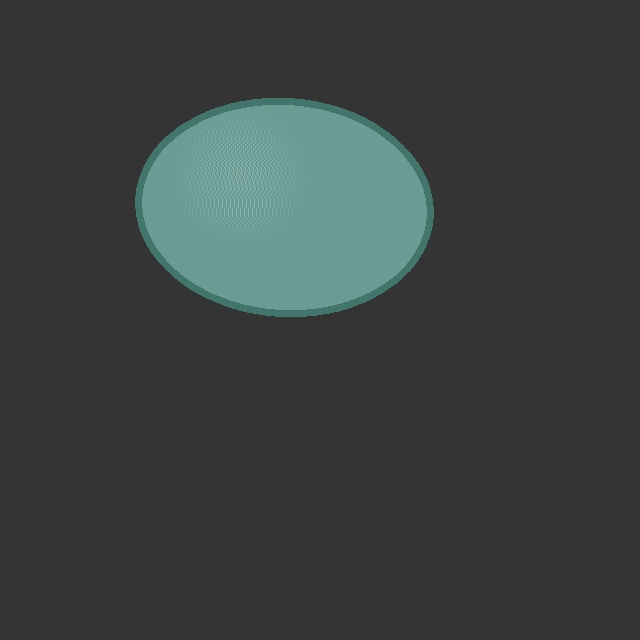lens: (138, 101, 430, 313)
